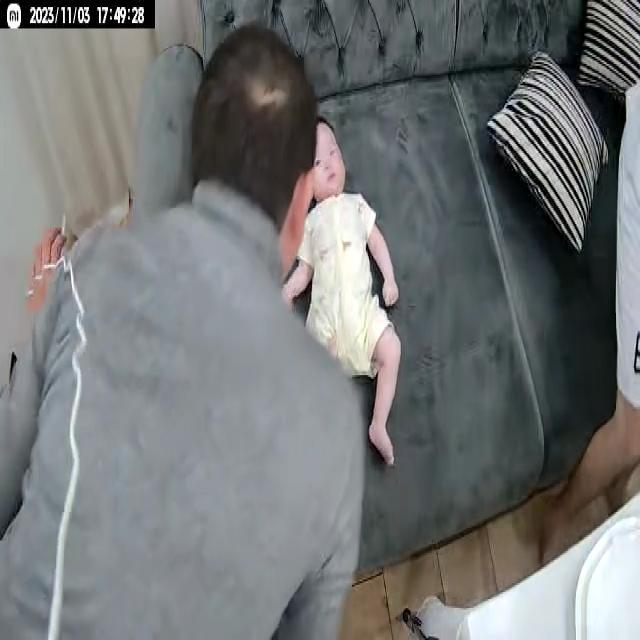baby: (281, 112, 402, 474)
